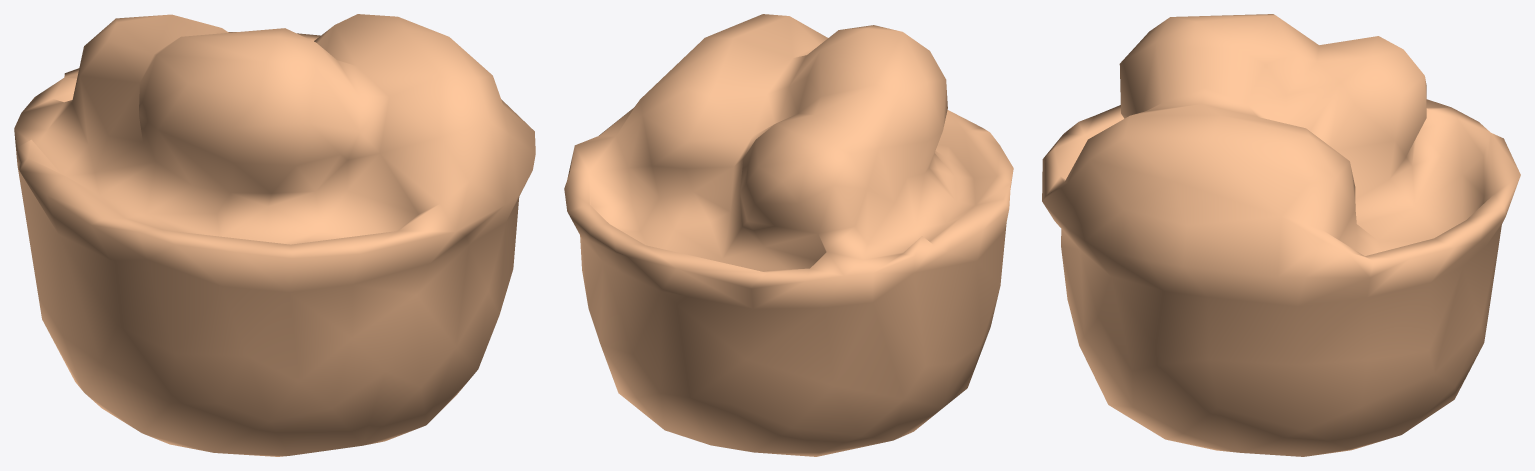
The picture shows the model from 3 angles, left to right: view 1: azimuth 30°, elevation 25°; view 2: azimuth 150°, elevation 25°; view 3: azimuth 270°, elevation 25°; orthographic projection. The views are drawn at different scales.
Visible parts, largest first — view 1: 짜임 바구니; view 2: 짜임 바구니; view 3: 짜임 바구니.
Part boxes in pixels (x1,y1,x2,y2): 짜임 바구니: [14, 14, 535, 456]; 짜임 바구니: [564, 14, 1013, 456]; 짜임 바구니: [1042, 14, 1520, 456].
Bounding box in the file's own units: 32.45 × 27.13 × 33.44.
